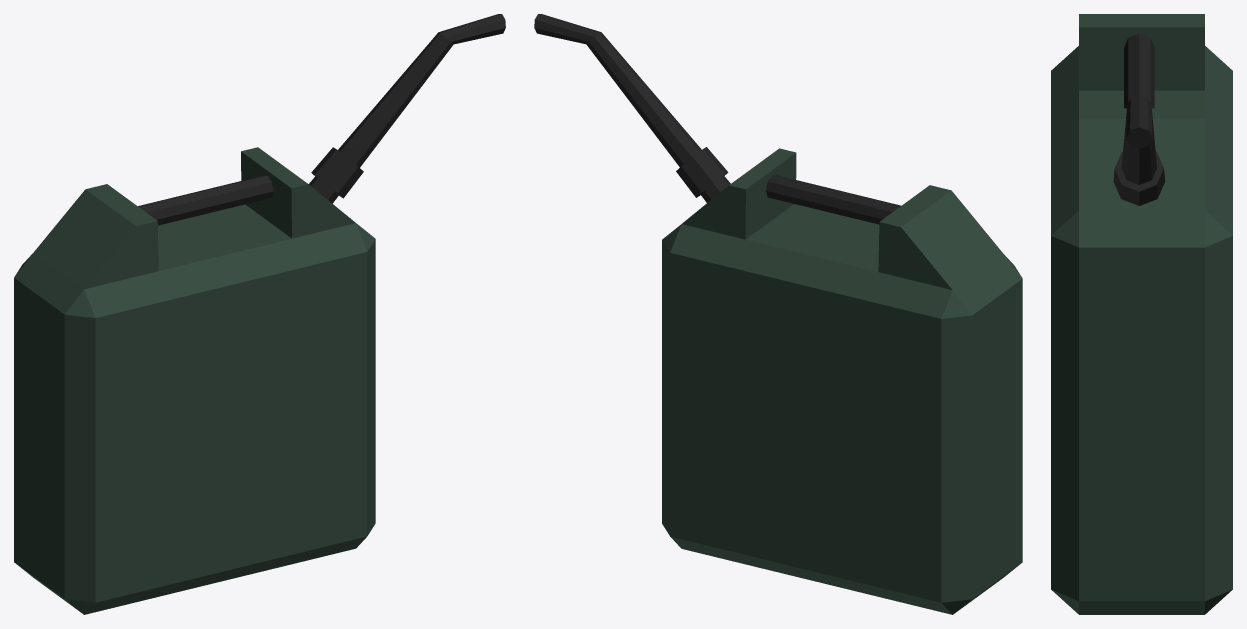
The model's file is canister.fbx.
3 renders of one model, left to right at view 1: azimuth 30°, elevation 25°; view 2: azimuth 150°, elevation 25°; view 3: azimuth 270°, elevation 25°, orthographic. The views are drawn at different scales.
Visible parts, largest first — view 1: kanister; view 2: kanister; view 3: kanister.
Part boxes in pixels (x1,y1,x2,y2): kanister: (14,14,505,614); kanister: (534,14,1022,614); kanister: (1051,14,1232,614).
Bounding box in the file's own units: 118 × 116 × 32.51.
